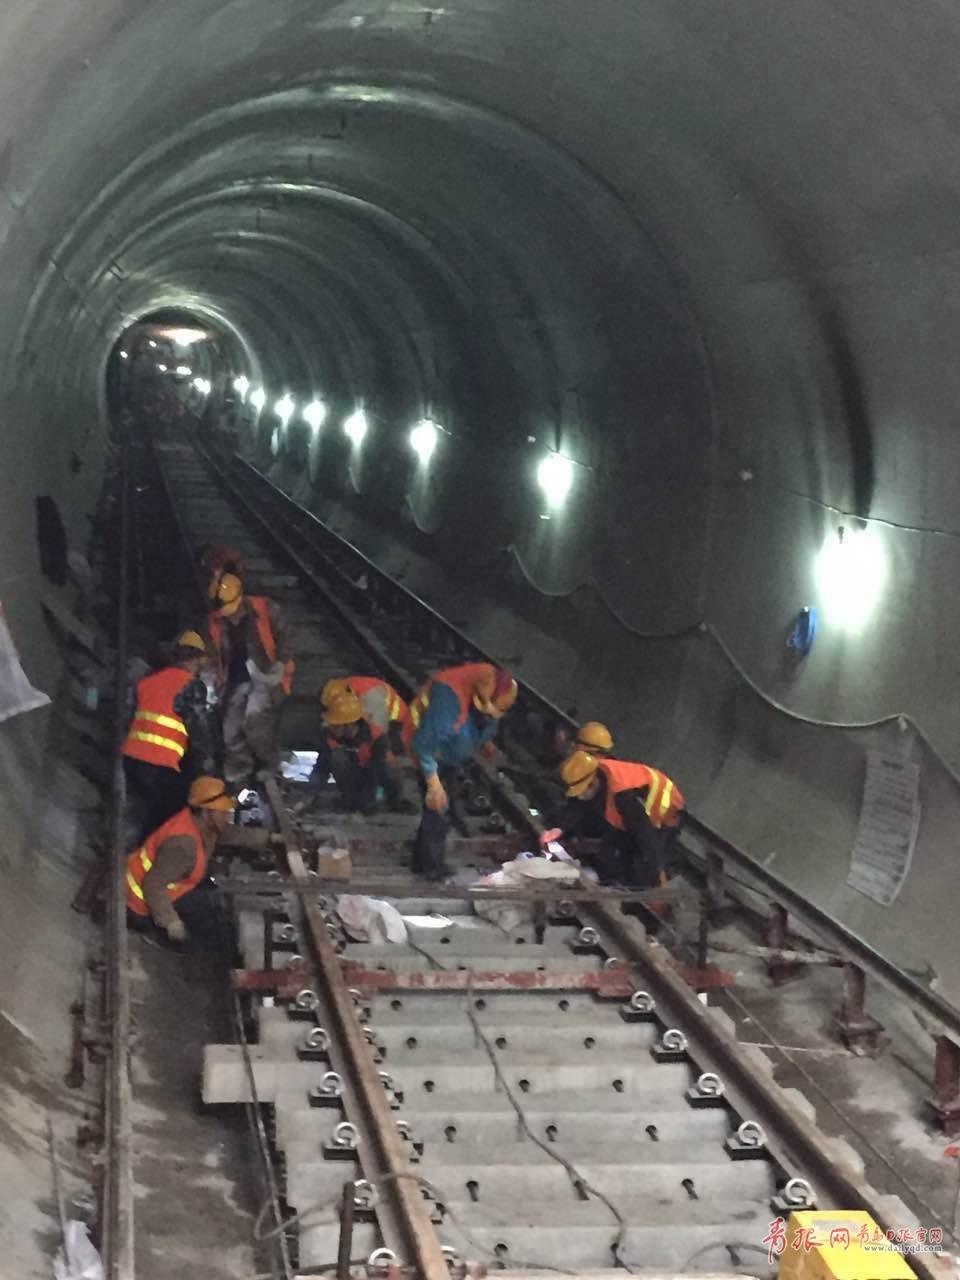yellow: (186, 774, 238, 837), (467, 668, 517, 718), (559, 749, 601, 801), (318, 693, 363, 740), (203, 572, 246, 621)
